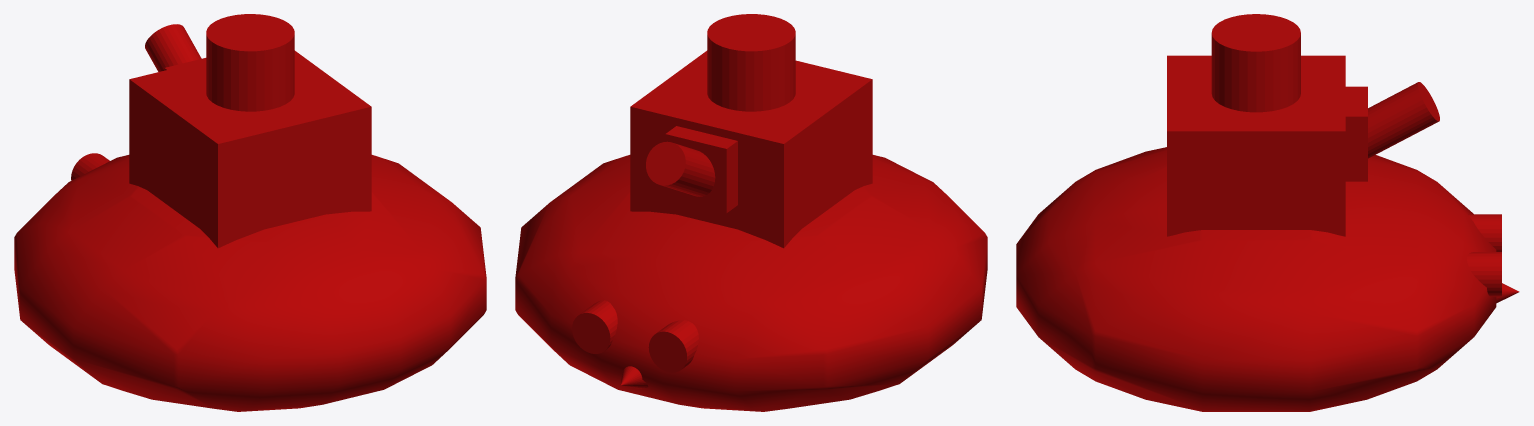
The model's file is enemyBOSSbehit.obj.
The picture shows the model from 3 angles, left to right: view 1: azimuth 30°, elevation 25°; view 2: azimuth 150°, elevation 25°; view 3: azimuth 270°, elevation 25°; orthographic projection.
Visible parts, largest first — view 1: Mball_Mball.008, 立方體_立方體.010, 圓柱體_圓柱體.002, 圓柱體.001_圓柱體.003, 圓柱體.003_圓柱體.005; view 2: Mball_Mball.008, 立方體_立方體.010, 圓柱體_圓柱體.002, 立方體.001_立方體.011, 圓柱體.001_圓柱體.003, 圓柱體.003_圓柱體.005, 圓柱體.002_圓柱體.004, 圓錐體_圓錐體.003; view 3: Mball_Mball.008, 立方體_立方體.010, 圓柱體_圓柱體.002, 圓柱體.001_圓柱體.003, 立方體.001_立方體.011, 圓柱體.002_圓柱體.004, 圓柱體.003_圓柱體.005.
Boxes of the visible parts, left/top/right/bottom form: Mball_Mball.008: left=14, top=155, right=486, bottom=411; 立方體_立方體.010: left=129, top=50, right=371, bottom=248; 圓柱體_圓柱體.002: left=206, top=14, right=294, bottom=111; 圓柱體.001_圓柱體.003: left=145, top=24, right=201, bottom=71; 圓柱體.003_圓柱體.005: left=71, top=153, right=109, bottom=180; Mball_Mball.008: left=515, top=155, right=987, bottom=411; 立方體_立方體.010: left=630, top=50, right=872, bottom=248; 圓柱體_圓柱體.002: left=707, top=14, right=795, bottom=111; 立方體.001_立方體.011: left=665, top=126, right=737, bottom=213; 圓柱體.001_圓柱體.003: left=646, top=141, right=715, bottom=196; 圓柱體.003_圓柱體.005: left=648, top=320, right=698, bottom=372; 圓柱體.002_圓柱體.004: left=572, top=300, right=617, bottom=353; 圓錐體_圓錐體.003: left=620, top=366, right=648, bottom=388; Mball_Mball.008: left=1016, top=147, right=1496, bottom=411; 立方體_立方體.010: left=1167, top=55, right=1345, bottom=236; 圓柱體_圓柱體.002: left=1211, top=14, right=1300, bottom=112; 圓柱體.001_圓柱體.003: left=1368, top=82, right=1439, bottom=158; 立方體.001_立方體.011: left=1345, top=86, right=1367, bottom=181; 圓柱體.002_圓柱體.004: left=1467, top=252, right=1501, bottom=296; 圓柱體.003_圓柱體.005: left=1468, top=214, right=1501, bottom=251.
Size of the model in its own units: 63.65 by 49.32 by 67.66.
8 materials, 8 textured.
